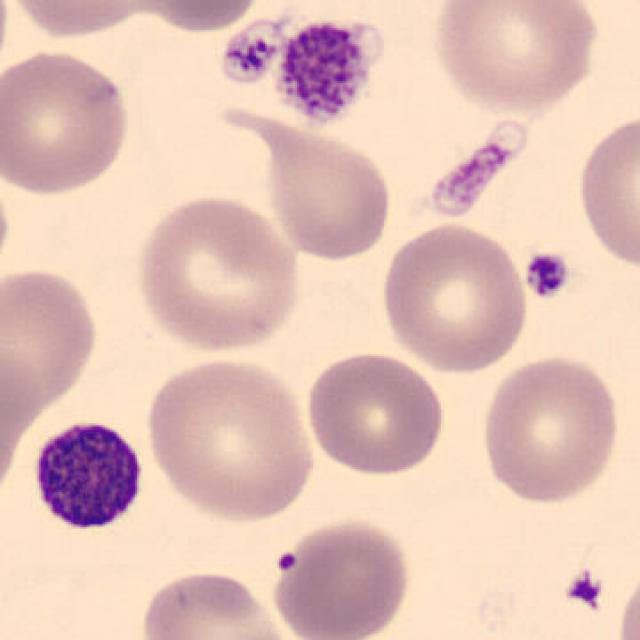Platelets: (27, 414, 151, 540), (268, 12, 378, 132), (418, 120, 530, 222), (217, 18, 284, 86), (521, 248, 572, 302), (562, 566, 606, 614), (272, 548, 300, 575)
RBC: (140, 352, 320, 526), (130, 191, 304, 356), (377, 218, 533, 376), (476, 351, 626, 508), (426, 0, 604, 118), (0, 44, 135, 199), (300, 347, 450, 478), (259, 123, 396, 264), (267, 515, 416, 640), (0, 263, 103, 414), (137, 566, 299, 640), (572, 106, 638, 273), (2, 0, 158, 41), (0, 334, 37, 502), (136, 0, 270, 35), (611, 559, 640, 640), (0, 164, 14, 289)
